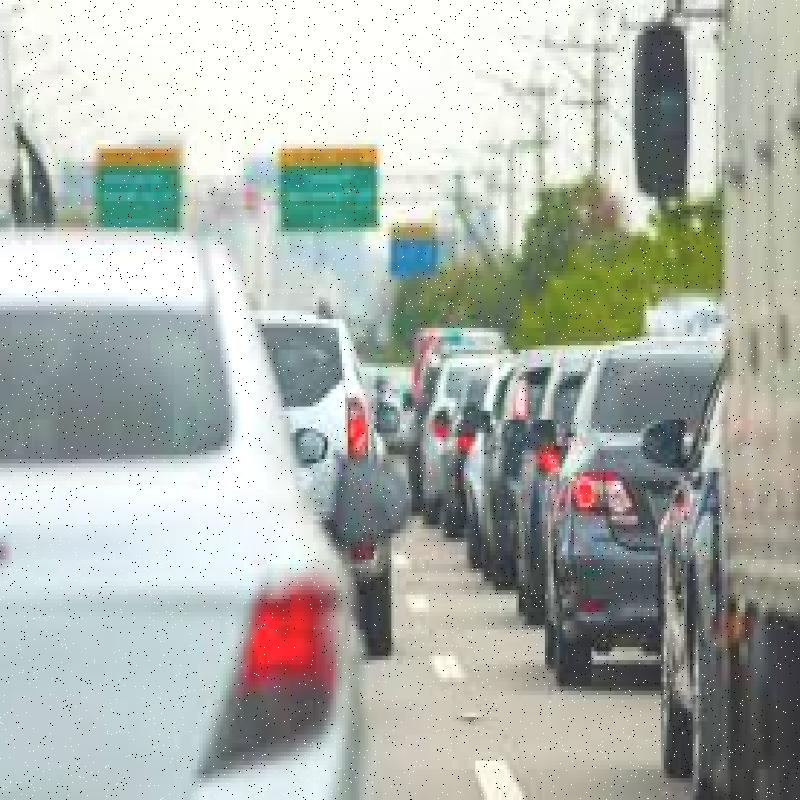car: (0, 182, 322, 800), (484, 326, 736, 777), (258, 326, 379, 584)
